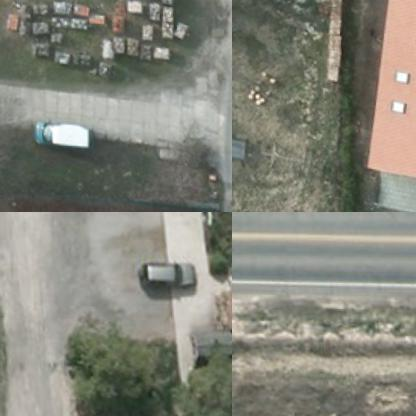car: (132, 252, 198, 286)
van: (32, 113, 90, 151)
